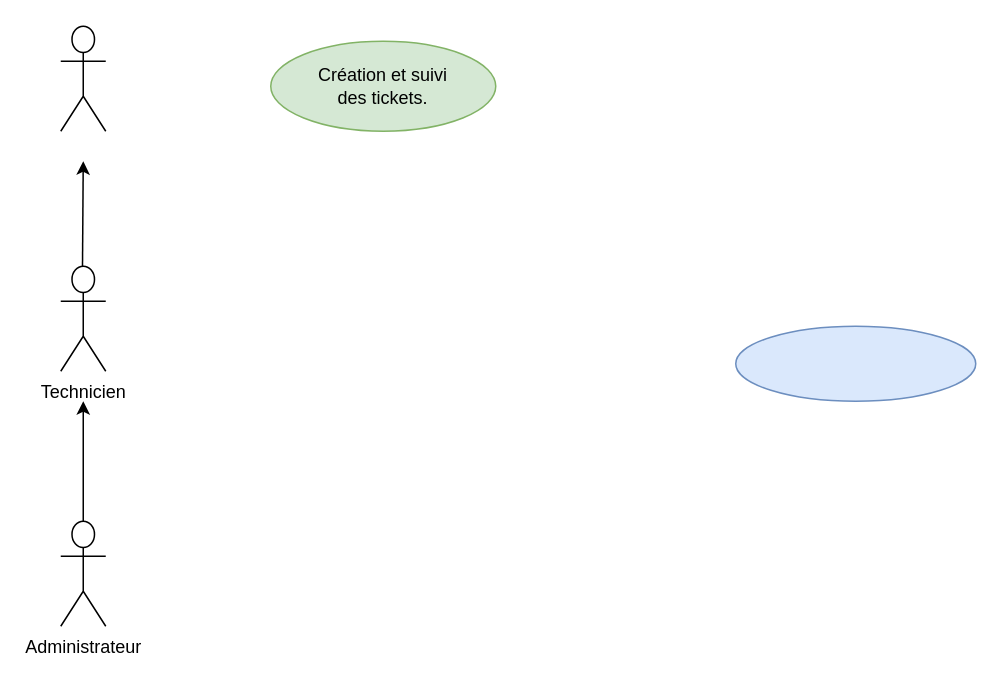
Some shapes in this 1002 by 684 pixel diagram are drawn without their labels. The shapes that lost their labels are listed below. From the top down, each one's box as (x1, y1, x2, y2) in pixels, then its label:
(59, 25, 106, 131): Utilisateur
(734, 325, 976, 401): Authentifier
